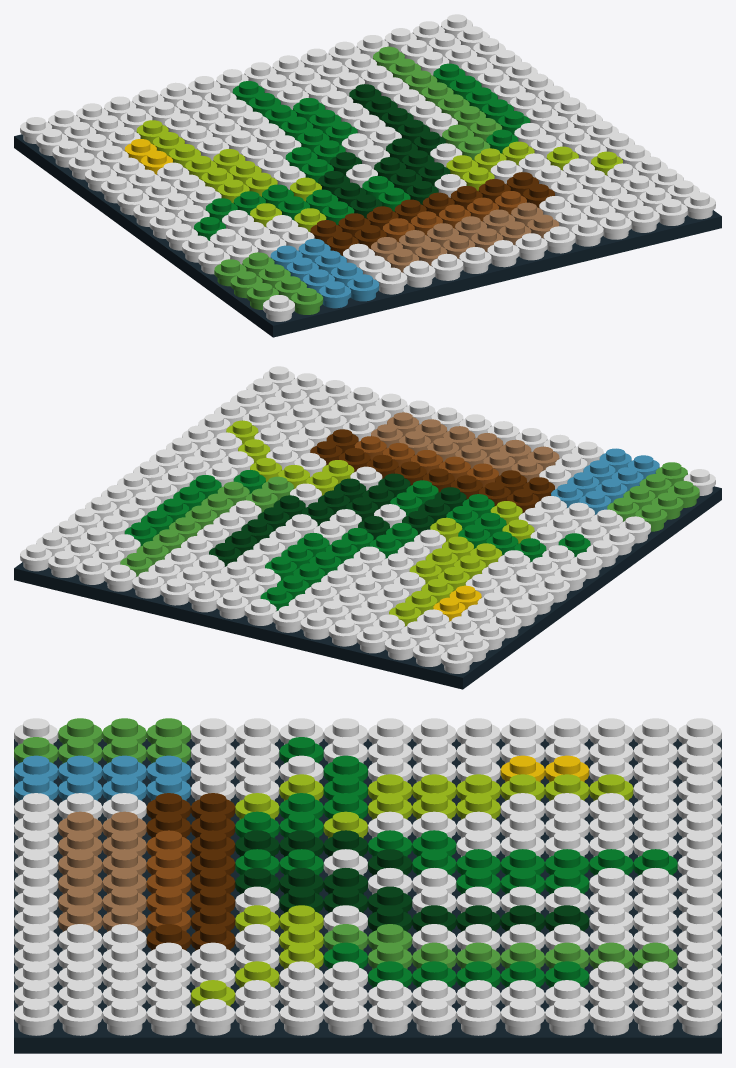
The picture shows the model from 3 angles, top to bottom: view 1: azimuth 30°, elevation 25°; view 2: azimuth 150°, elevation 25°; view 3: azimuth 270°, elevation 25°; orthographic projection. The views are drawn at different scales.
Visible parts, largest first — view 1: plate_8 (×3), dot_0_15, dot_10_15, dot_11_15, dot_12_15, dot_3_15, dot_5_15, dot_7_15, dot_8_15, dot_6_15, dot_9_15, dot_2_15 (+20 smaller); view 2: plate_8 (×3), dot_0_0, dot_10_0, dot_11_0, dot_12_0, dot_3_0, dot_5_0, dot_7_0, dot_8_0, dot_6_0, dot_9_0, dot_2_0 (+20 smaller); view 3: plate_8 (×4), dot_15_1, dot_15_2, dot_15_5, dot_15_6, dot_15_9, dot_15_10, dot_15_13, dot_15_14, dot_15_0, dot_15_3, dot_15_4 (+245 smaller).
Part boxes in pixels (x1,y1,x2,y2): plate_8 (×3): (14, 134, 721, 337); dot_0_15: (263, 295, 294, 321); dot_10_15: (543, 226, 575, 253); dot_11_15: (571, 219, 603, 246); dot_12_15: (599, 212, 631, 239); dot_3_15: (347, 274, 379, 301); dot_5_15: (403, 260, 435, 287); dot_7_15: (459, 247, 491, 273); dot_8_15: (487, 240, 519, 267); dot_6_15: (431, 253, 463, 280); dot_9_15: (515, 233, 547, 260); dot_2_15: (319, 281, 351, 308); plate_8 (×3): (14, 486, 721, 689); dot_0_0: (441, 647, 472, 673); dot_10_0: (160, 578, 192, 605); dot_11_0: (132, 571, 164, 598); dot_12_0: (104, 564, 136, 591); dot_3_0: (356, 626, 388, 653); dot_5_0: (300, 612, 332, 639); dot_7_0: (244, 599, 276, 625); dot_8_0: (216, 592, 248, 619); dot_6_0: (272, 605, 304, 632); dot_9_0: (188, 585, 220, 612); dot_2_0: (384, 633, 416, 660); plate_8 (×4): (14, 738, 721, 1053); dot_15_1: (633, 998, 677, 1035); dot_15_2: (589, 998, 633, 1035); dot_15_5: (456, 998, 500, 1035); dot_15_6: (412, 998, 456, 1035); dot_15_9: (279, 998, 323, 1035); dot_15_10: (235, 998, 279, 1035); dot_15_13: (102, 998, 146, 1035); dot_15_14: (58, 998, 102, 1035); dot_15_0: (677, 998, 721, 1035); dot_15_3: (545, 998, 589, 1035); dot_15_4: (500, 998, 544, 1035).
Size of the model in its own units: 12.8 by 0.8 by 12.8.
